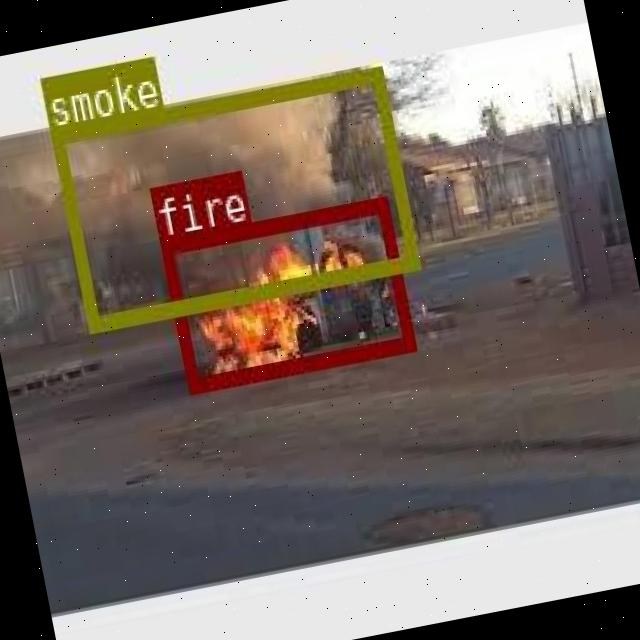fire: (156, 194, 412, 390)
smoke: (48, 65, 418, 332)
